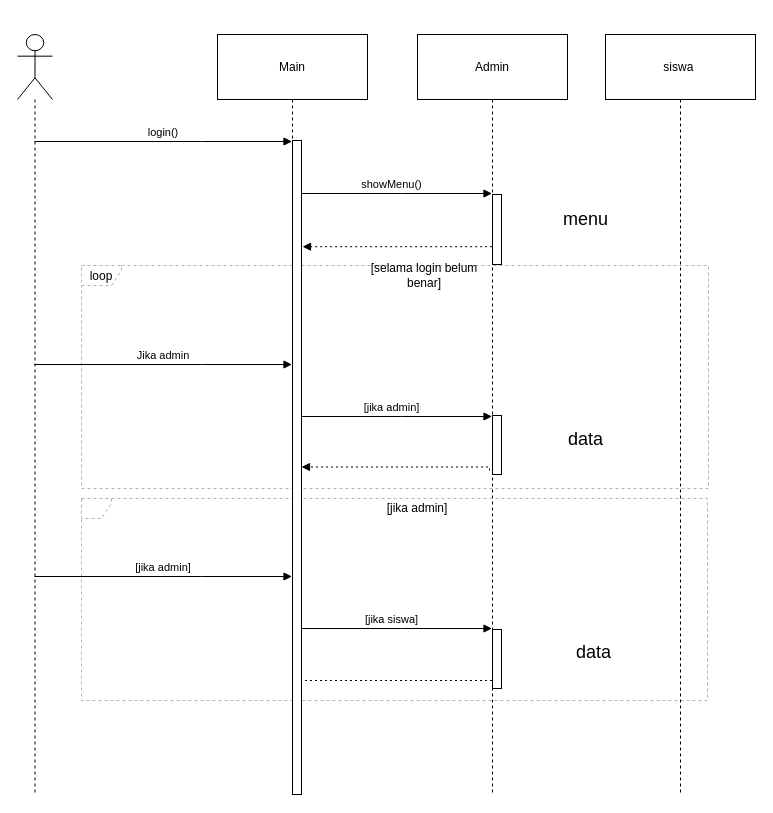
The diagram is 773 pixels wide and 813 high, and some of its shapes have lost their labels. The shapes that lost their labels are listed below. From the top down, each one's box as (x1, y1, x2, y2) in pixels, then its label:
(16, 34, 52, 796): User
(80, 498, 708, 700): alt
